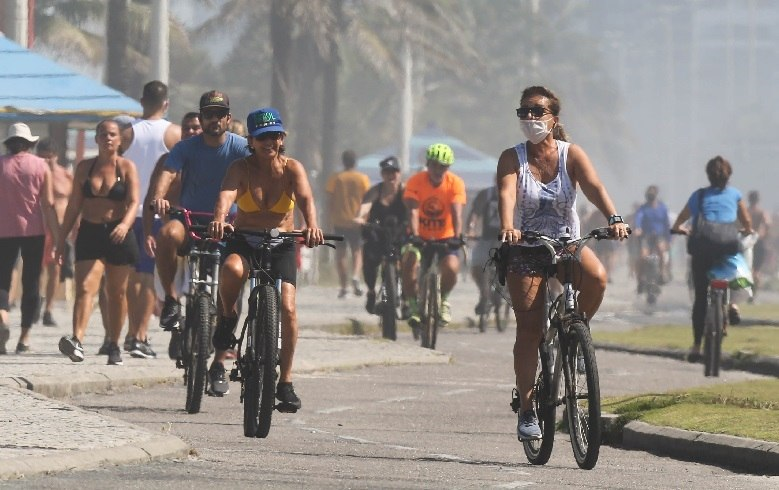mask_weared_incorrect: (515, 94, 560, 146)
without_mask: (249, 122, 285, 161), (200, 104, 231, 135), (96, 121, 122, 153)
